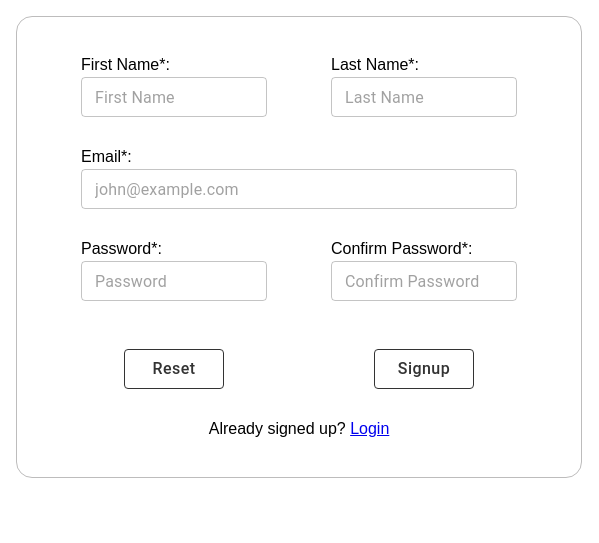
Test case: Signup Form › Displays validation errors for empty required fields
The image size is (599, 543).
Click the button "Signup" at (424, 369), box x1=374 y1=349 x2=474 y2=389
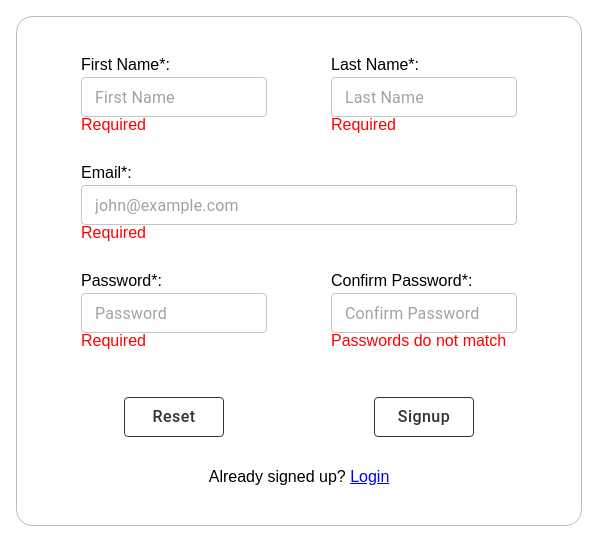
expect the text "Required" is shown 4 times: met, box x1=81 y1=116 x2=146 y2=133; x1=331 y1=116 x2=396 y2=133; x1=81 y1=224 x2=146 y2=241; x1=81 y1=332 x2=146 y2=349
expect the text "Passwords do not match" is shown: met, box x1=331 y1=333 x2=517 y2=349
